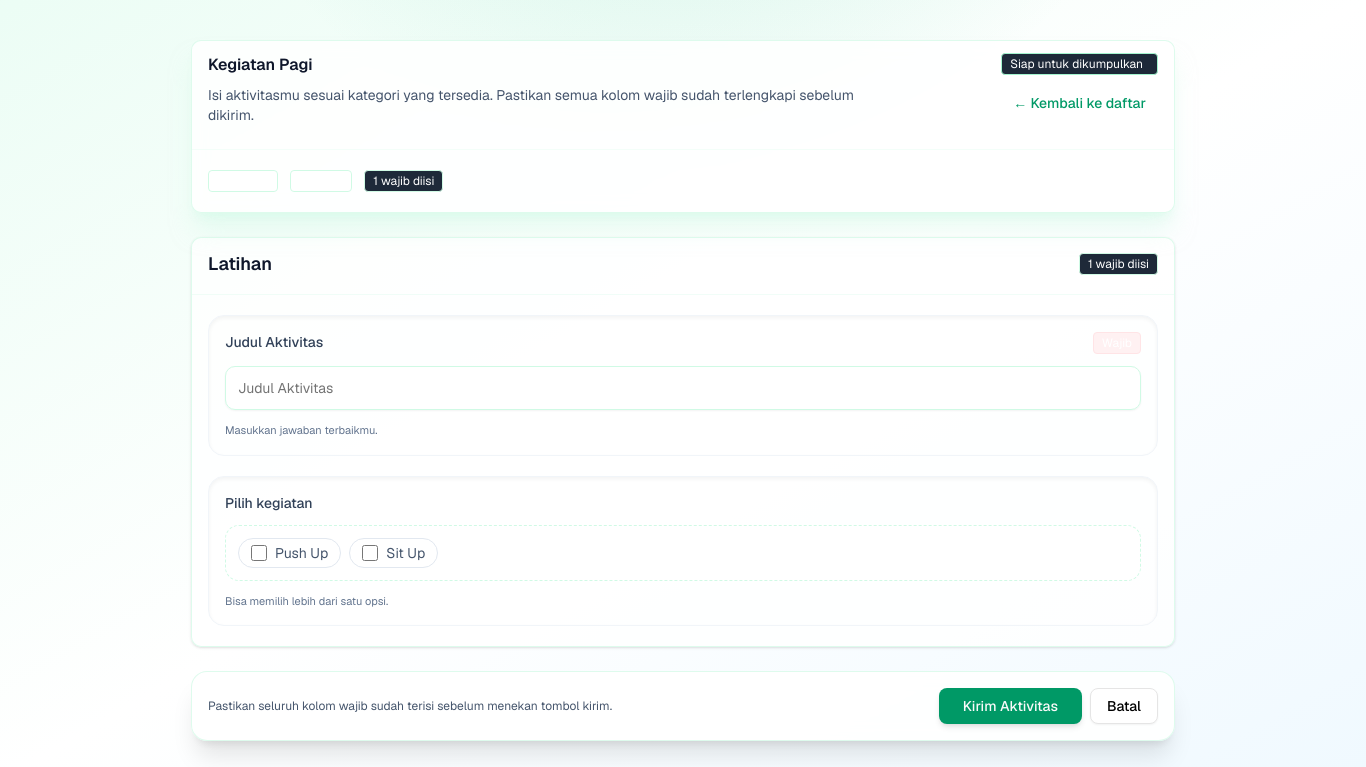
Test case: Siswa kegiatan detail page › renders categories and submits values successfully
The width and height of the screenshot is (1366, 767).
Expected: the heading "Kegiatan Pagi" is shown, [208, 54, 312, 75]
Expected: the heading "Latihan" is shown, [208, 250, 272, 278]
Type "Senam Sehat" into the field labelled "Judul Aktivitas" at (683, 388), box [225, 366, 1141, 410]
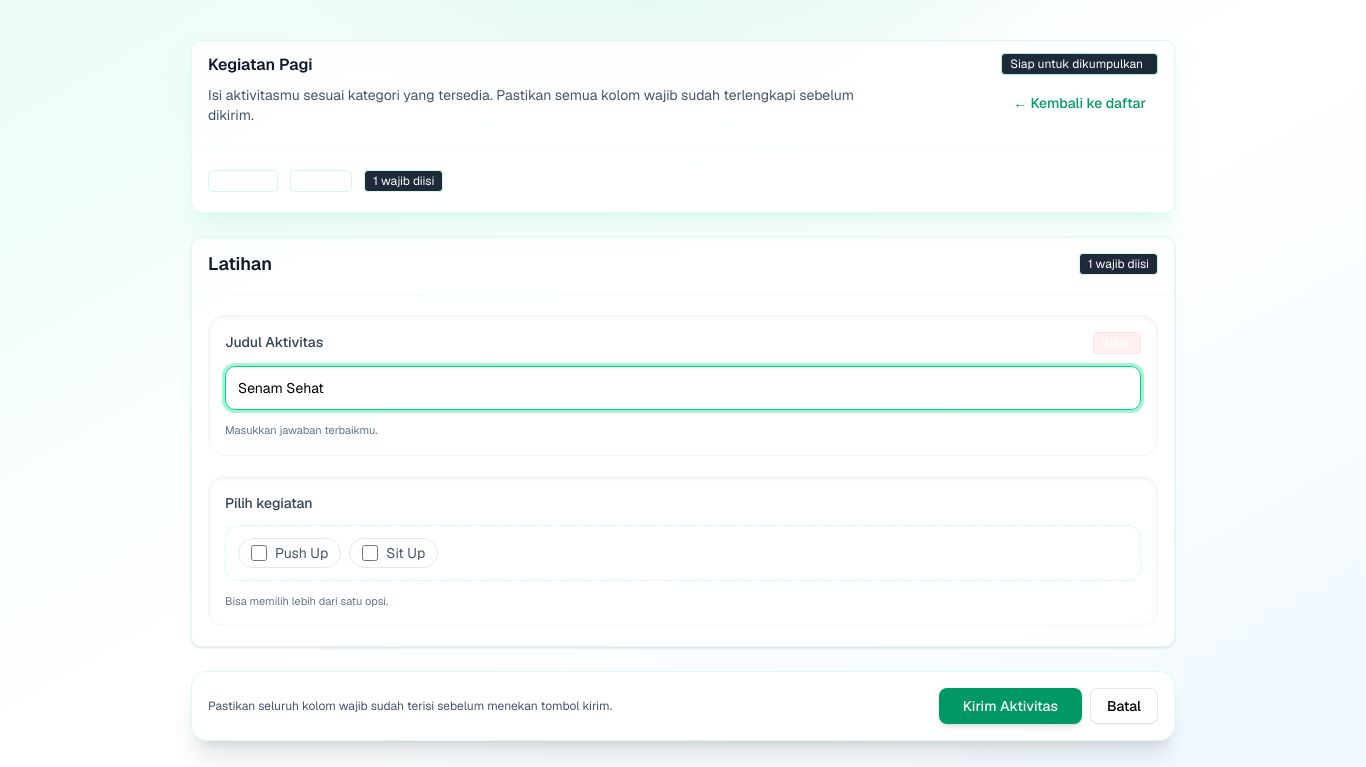
Click the checkbox labelled "Push Up" at (259, 552), box [251, 544, 267, 560]
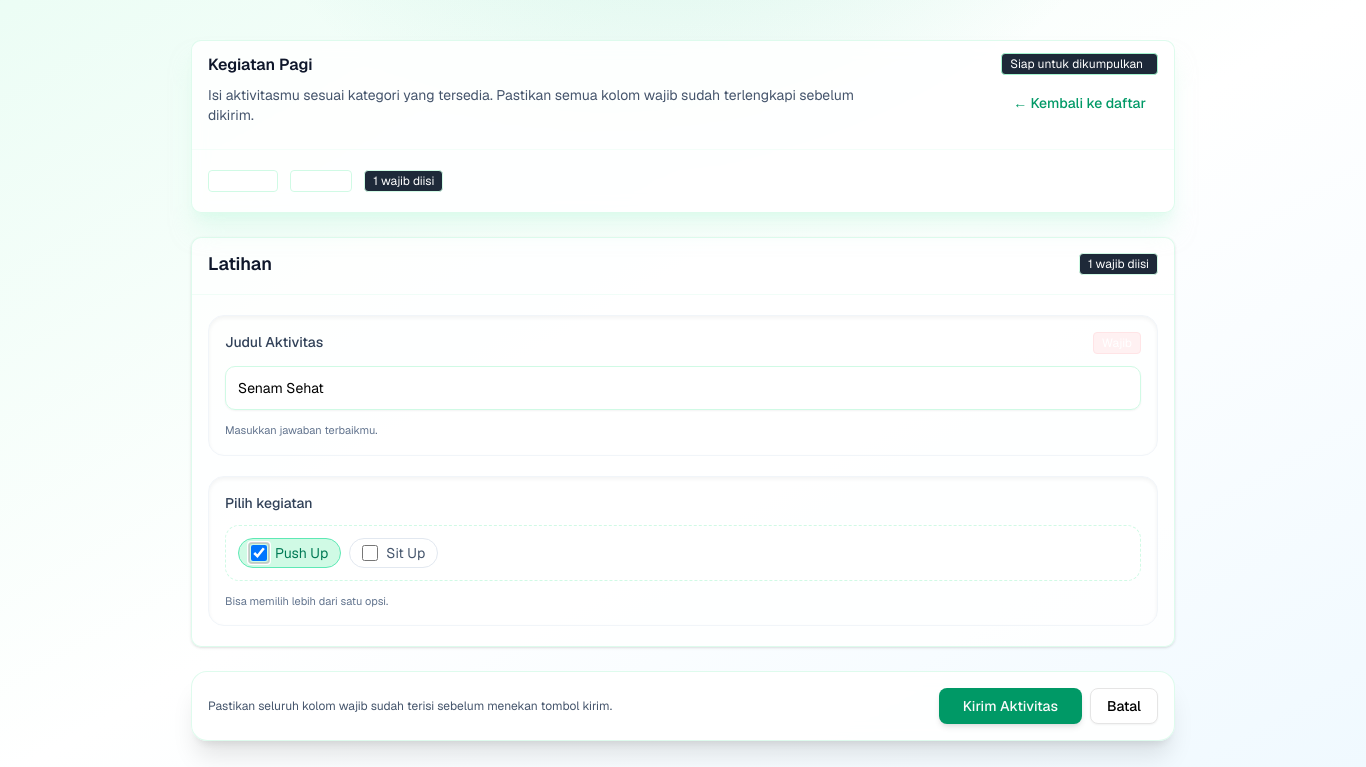
Click the button "Kirim Aktivitas" at (1010, 706), box [939, 688, 1082, 724]
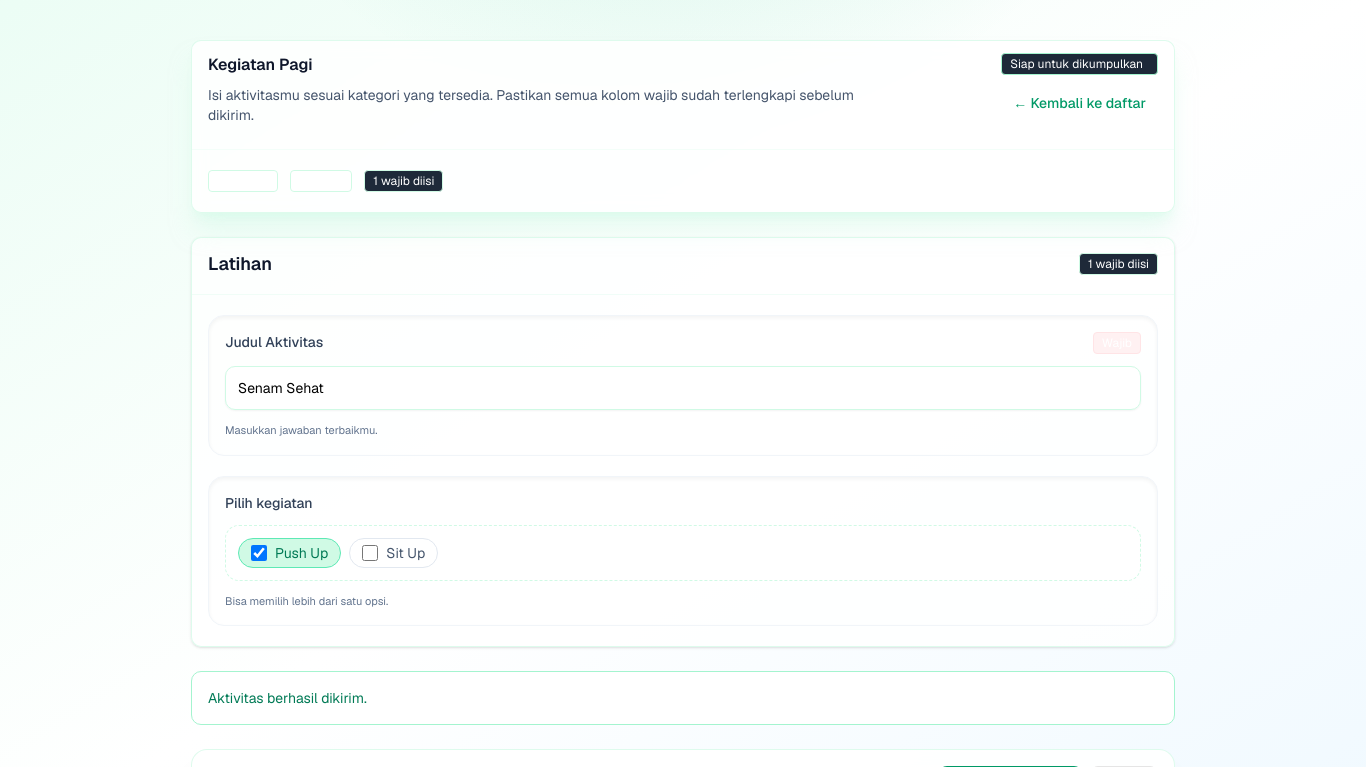
Result: the text "Aktivitas berhasil dikirim." is shown at [208, 689, 367, 707]
